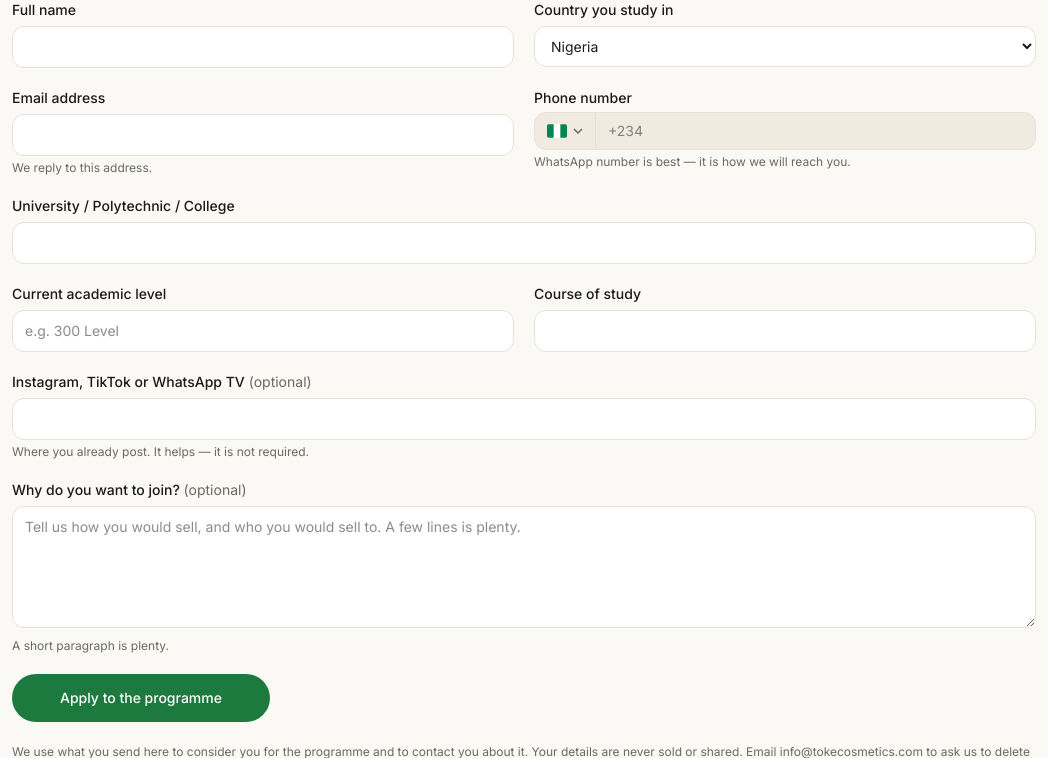
Test case: the application form › confirms without promising a date, and repeats the no-fee warning
Step 1. Type "Chidinma Eze" into the field labelled "Full name" → (263, 47), box [12,26,514,68]
Step 2. Type "chidinma@example.com" into the field labelled "Email address" → (263, 135), box [12,114,514,156]
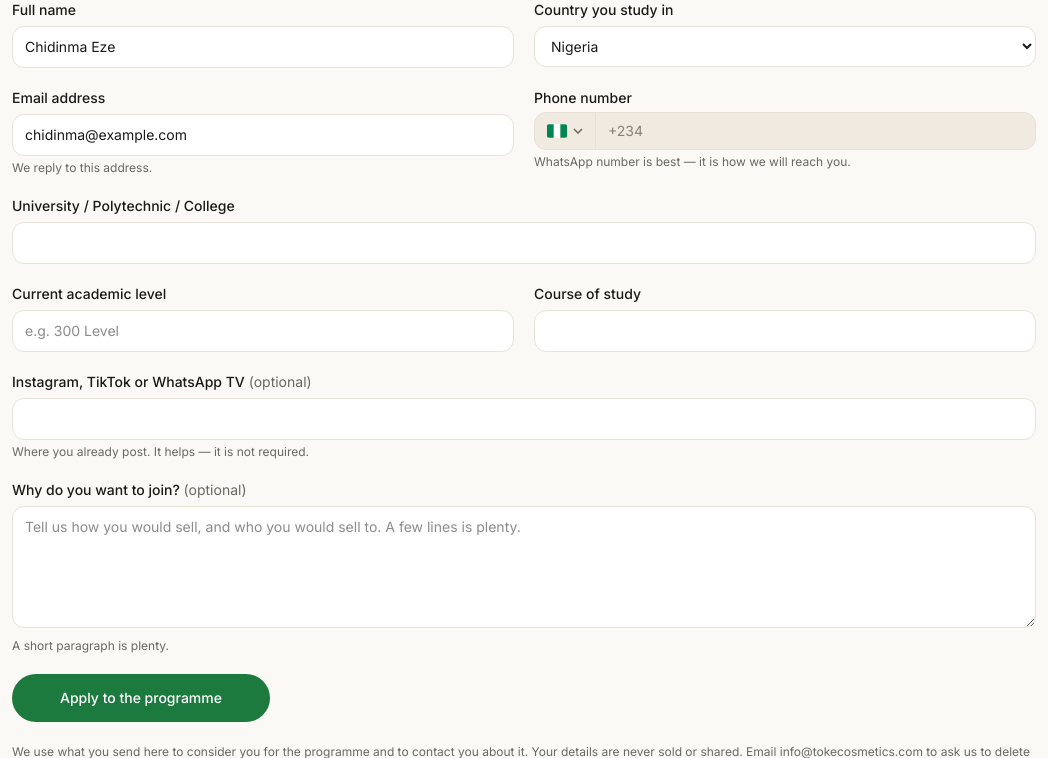
Step 3. Type "University of Lagos" into the field labelled "University / Polytechnic / College" → (524, 243), box [12,222,1036,264]
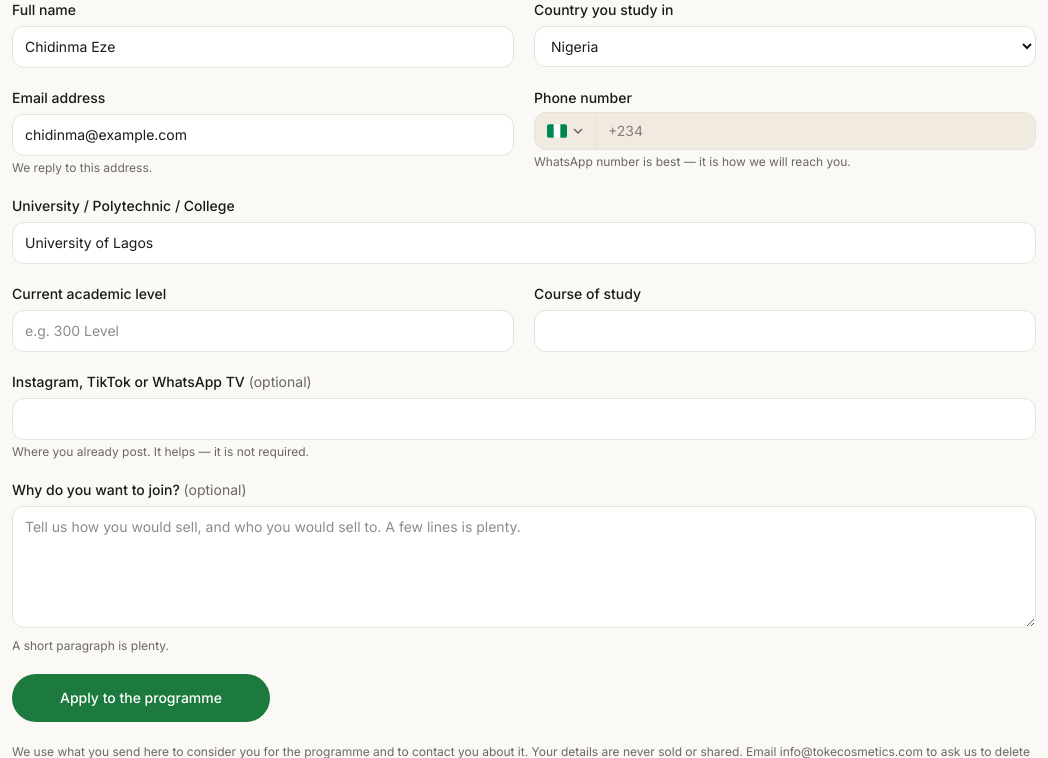
Step 4. Type "300 Level" into the field labelled "Current academic level" → (263, 331), box [12,310,514,352]
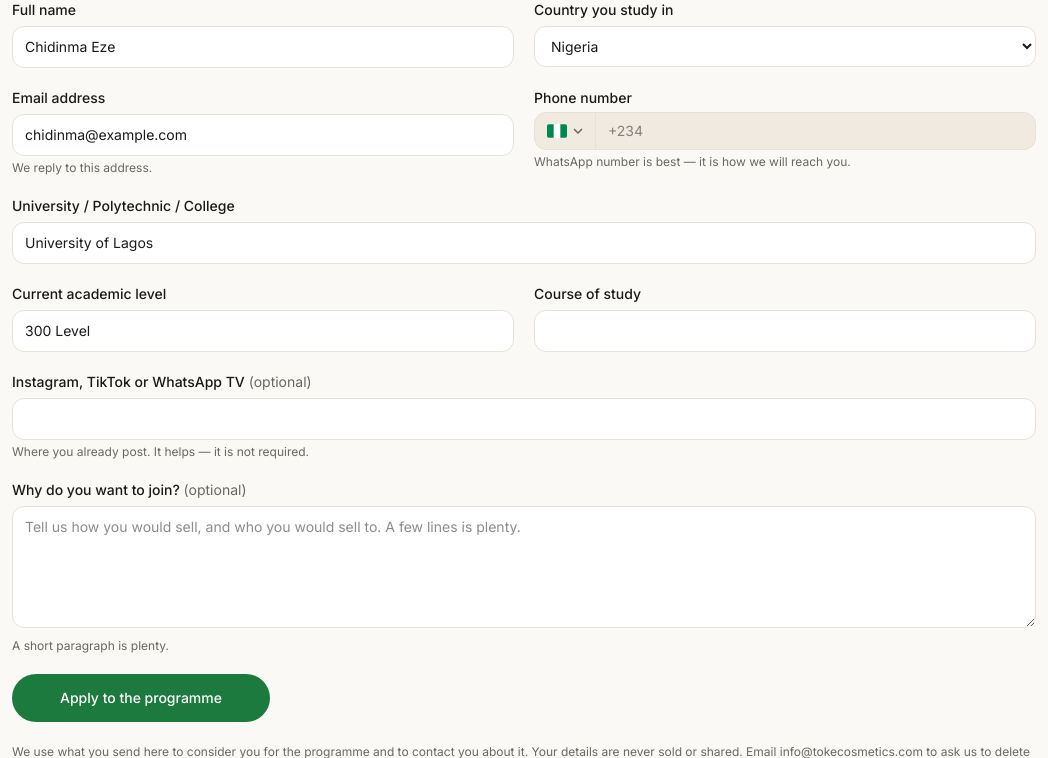
Step 5. Type "Biochemistry" into the field labelled "Course of study" → (785, 331), box [534,310,1036,352]
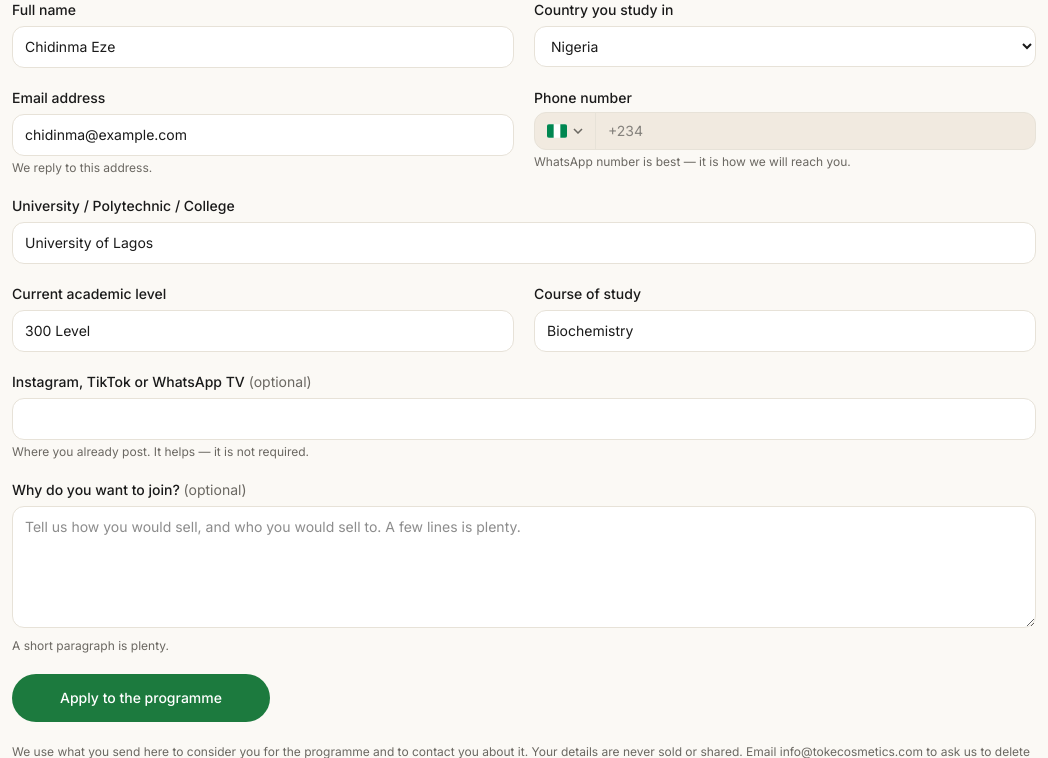
Step 6. Type "8023900964" into the field labelled "Phone number" → (816, 131), box [596,113,1035,149]
(page scrolled)
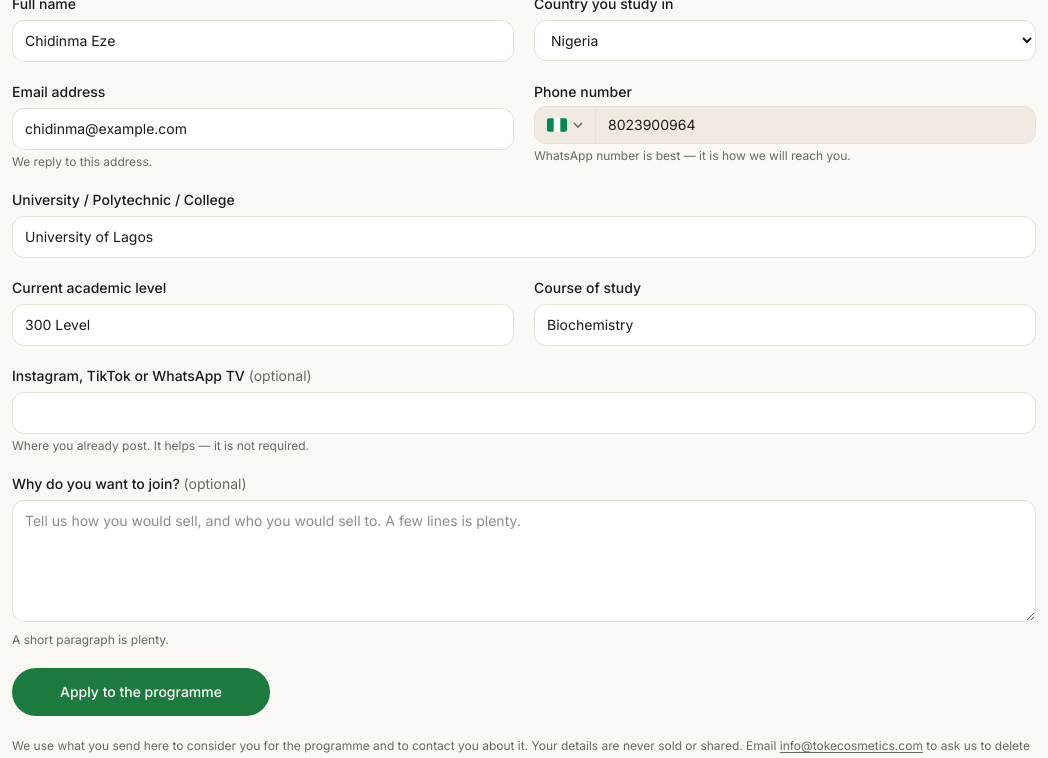
Step 7. Submit the form named "apply to the programme"
(page scrolled)
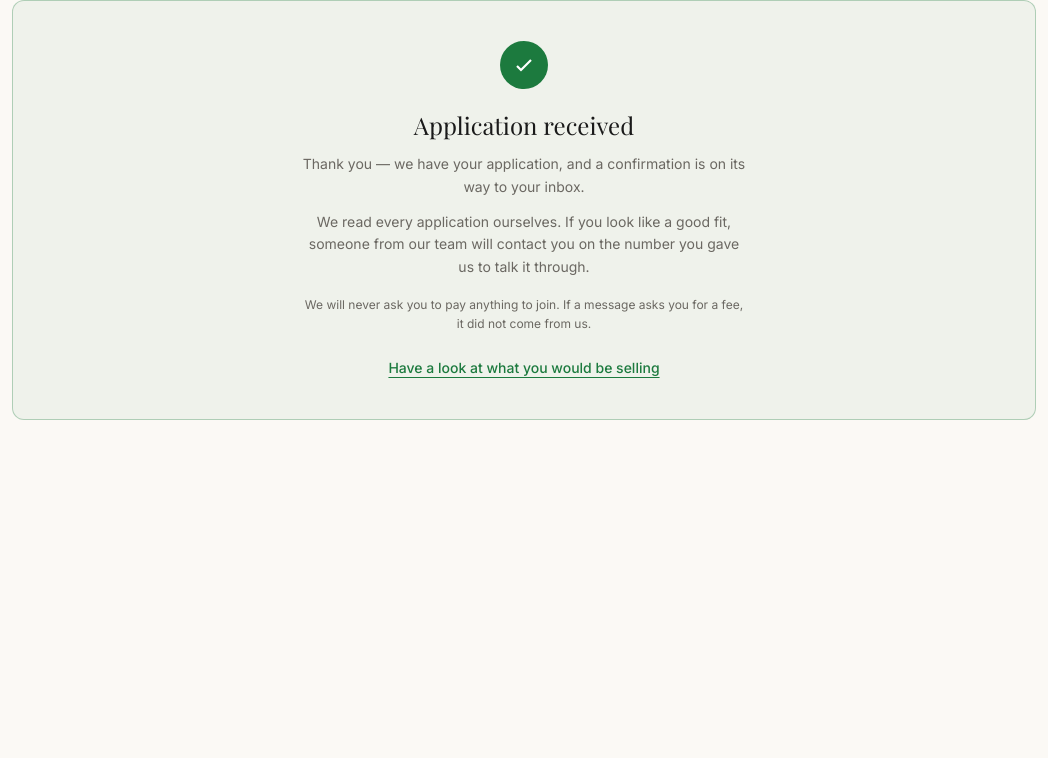
Expected: the heading "Application received" is shown, [414,109,634,141]
Expected: the text "never ask you to pay" is shown, [305,297,743,331]
